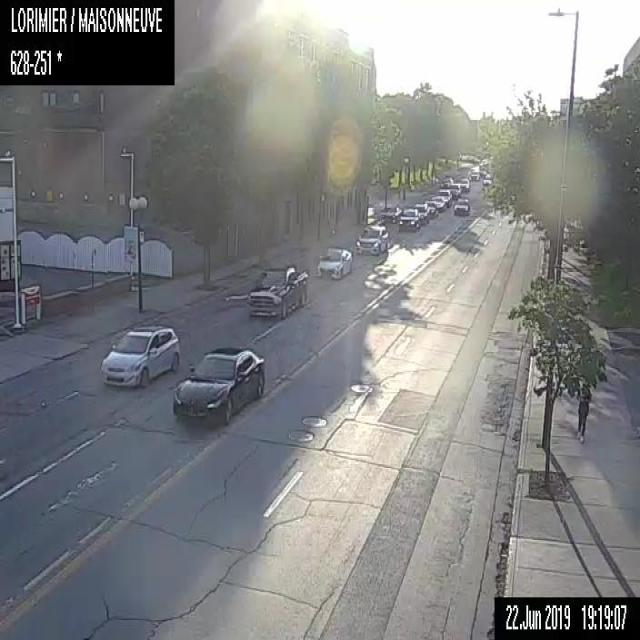pedestrian: (575, 382, 590, 442)
vehicle: (171, 347, 264, 423), (99, 322, 180, 387), (246, 261, 309, 320), (315, 246, 352, 280), (355, 224, 387, 254), (397, 208, 421, 232), (381, 205, 401, 222), (414, 202, 428, 224), (452, 196, 468, 214), (436, 188, 451, 206), (424, 199, 437, 217), (481, 173, 493, 190), (432, 196, 444, 212), (448, 183, 461, 197), (458, 176, 469, 191), (470, 168, 480, 180), (440, 179, 450, 188)
